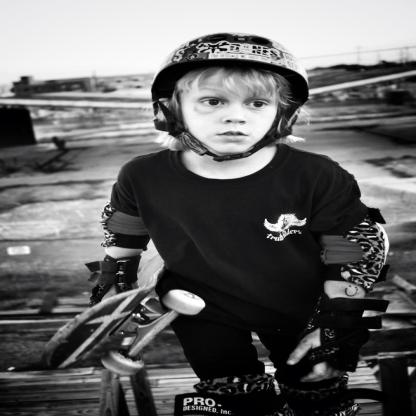Helmet: (160, 31, 301, 146)
